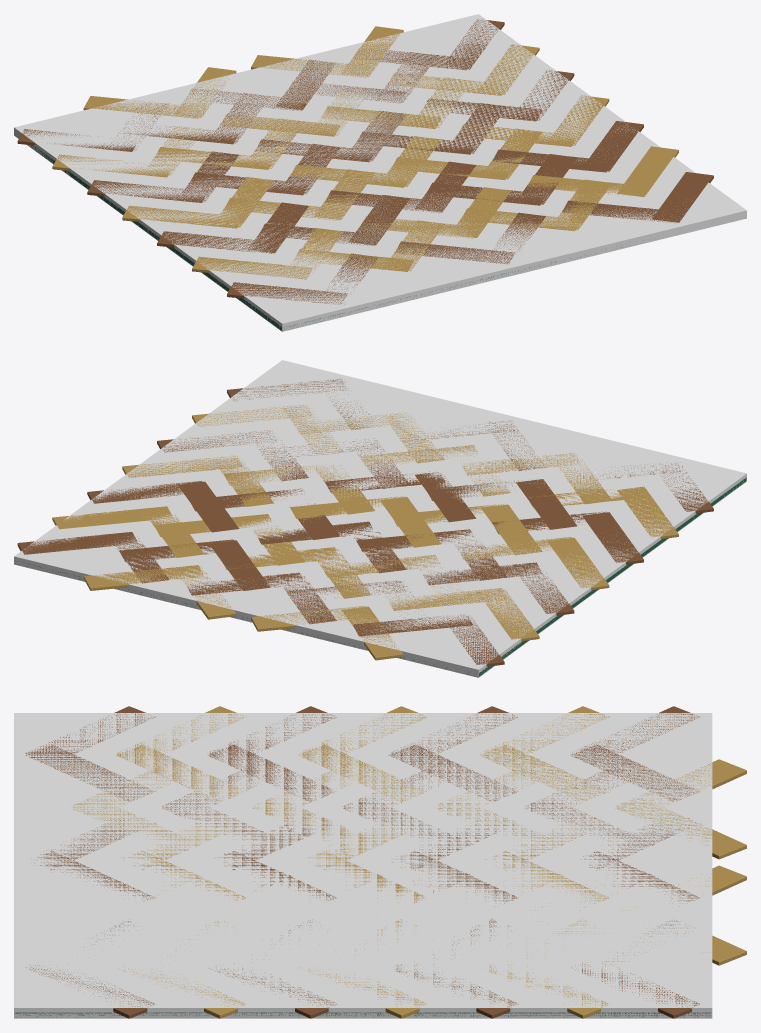
Rendered from flooring_luxury.glb.
3 views of the same model, one above another, from view 1: azimuth 30°, elevation 25°; view 2: azimuth 150°, elevation 25°; view 3: azimuth 270°, elevation 25° (orthographic). The views are drawn at different scales.
Visible parts, largest first — view 1: COL_flooring, MESH_HerringbonePlank.010, MESH_HerringbonePlank.030, MESH_HerringbonePlank.009, MESH_HerringbonePlank.019, MESH_HerringbonePlank.013, MESH_HerringbonePlank, MESH_HerringbonePlank.067, MESH_HerringbonePlank.004, MESH_HerringbonePlank.054, MESH_HerringbonePlank.065, MESH_HerringbonePlank.046 (+58 smaller); view 2: COL_flooring, MESH_HerringbonePlank.067, MESH_HerringbonePlank.020, MESH_HerringbonePlank.030, MESH_HerringbonePlank.010, MESH_HerringbonePlank.059, MESH_HerringbonePlank.069, MESH_HerringbonePlank.034, MESH_HerringbonePlank.056, MESH_HerringbonePlank.048, MESH_HerringbonePlank.012, MESH_HerringbonePlank.022 (+49 smaller); view 3: COL_flooring, MESH_HerringbonePlank.001, MESH_HerringbonePlank.061, MESH_HerringbonePlank.051, MESH_HerringbonePlank.041, MESH_HerringbonePlank.031, MESH_HerringbonePlank.011, MESH_HerringbonePlank.021, MESH_FinishBase, MESH_HerringbonePlank.063, MESH_HerringbonePlank.062, MESH_HerringbonePlank (+34 smaller).
Boxes of the visible parts, x1,y1,x2,y2 form: COL_flooring: (14, 14, 746, 331); MESH_HerringbonePlank.010: (192, 256, 312, 279); MESH_HerringbonePlank.030: (122, 205, 242, 228); MESH_HerringbonePlank.009: (652, 172, 713, 222); MESH_HerringbonePlank.019: (617, 146, 678, 197); MESH_HerringbonePlank.013: (348, 195, 409, 245); MESH_HerringbonePlank: (227, 282, 347, 304); MESH_HerringbonePlank.067: (341, 26, 403, 77); MESH_HerringbonePlank.004: (395, 241, 514, 264); MESH_HerringbonePlank.054: (220, 114, 340, 136); MESH_HerringbonePlank.065: (275, 59, 335, 110); MESH_HerringbonePlank.046: (321, 106, 441, 128); COL_flooring: (14, 360, 746, 677); MESH_HerringbonePlank.067: (83, 565, 203, 590); MESH_HerringbonePlank.020: (582, 512, 643, 564); MESH_HerringbonePlank.030: (547, 537, 609, 590); MESH_HerringbonePlank.010: (617, 486, 678, 539); MESH_HerringbonePlank.059: (52, 506, 173, 529); MESH_HerringbonePlank.069: (17, 532, 137, 554); MESH_HerringbonePlank.034: (380, 497, 441, 547); MESH_HerringbonePlank.056: (209, 540, 270, 590); MESH_HerringbonePlank.048: (178, 481, 238, 532); MESH_HerringbonePlank.012: (516, 479, 576, 529); MESH_HerringbonePlank.022: (481, 504, 542, 555); COL_flooring: (14, 713, 712, 1018); MESH_HerringbonePlank.001: (26, 744, 155, 801); MESH_HerringbonePlank.061: (570, 745, 699, 801); MESH_HerringbonePlank.051: (480, 744, 608, 801); MESH_HerringbonePlank.041: (388, 745, 518, 801); MESH_HerringbonePlank.031: (299, 745, 426, 802); MESH_HerringbonePlank.011: (116, 744, 241, 801); MESH_HerringbonePlank.021: (208, 744, 334, 802); MESH_FinishBase: (15, 1012, 710, 1017); MESH_HerringbonePlank.063: (615, 800, 746, 859); MESH_HerringbonePlank.062: (616, 759, 746, 815); MESH_HerringbonePlank: (25, 706, 155, 763).
Bounding box in the file's own units: 2.51 × 0.04 × 2.52.
